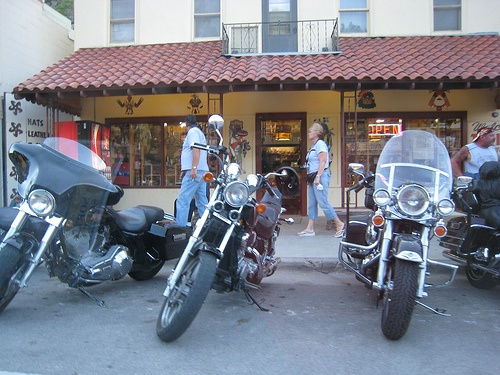head: (472, 126, 498, 150), (183, 114, 199, 135), (309, 122, 324, 142)
person: (296, 119, 343, 238), (172, 113, 207, 227), (451, 126, 497, 178)
